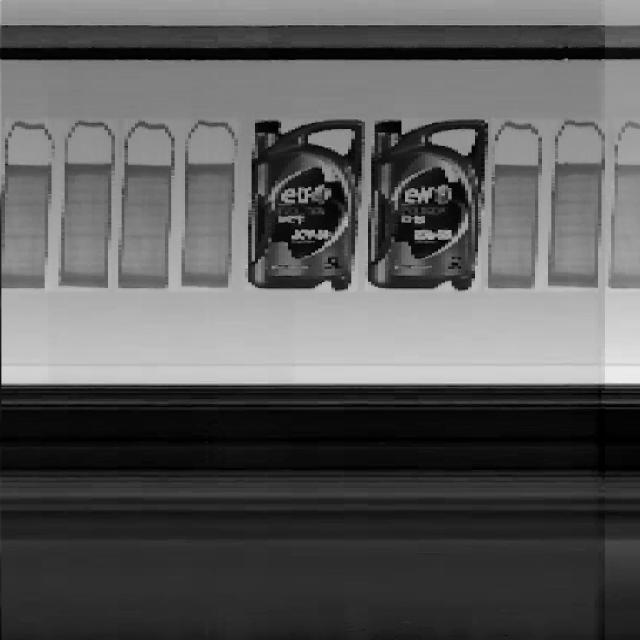air_filter: (544, 117, 608, 288), (117, 118, 178, 293), (178, 121, 239, 289), (56, 120, 115, 291), (0, 119, 56, 288), (492, 122, 544, 294)
motor_oil: (366, 114, 490, 294), (246, 115, 364, 293)
